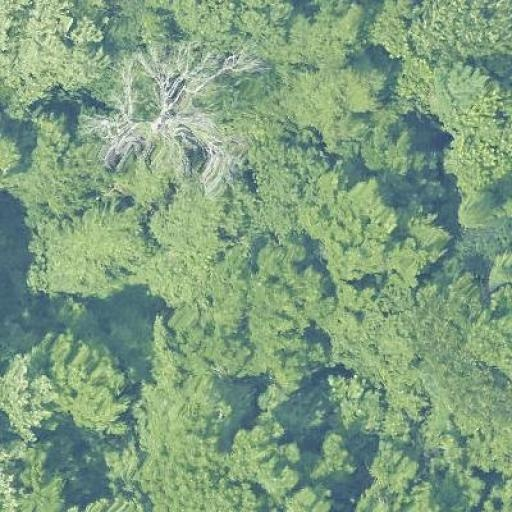tree-top: (95, 48, 262, 194), (308, 169, 446, 288), (244, 241, 336, 389), (26, 200, 154, 306), (426, 54, 512, 196), (410, 286, 499, 417), (45, 321, 142, 433), (7, 110, 96, 217), (152, 180, 222, 309), (245, 137, 324, 246), (290, 64, 377, 158), (384, 0, 509, 64), (13, 6, 105, 92), (135, 391, 208, 499), (156, 309, 258, 382), (224, 407, 304, 496), (173, 0, 298, 55), (282, 0, 370, 71), (355, 435, 435, 512), (0, 334, 56, 437), (16, 450, 92, 512), (366, 125, 432, 189), (449, 219, 512, 283), (301, 428, 365, 485), (467, 393, 512, 472), (104, 0, 170, 44), (431, 465, 484, 512)
